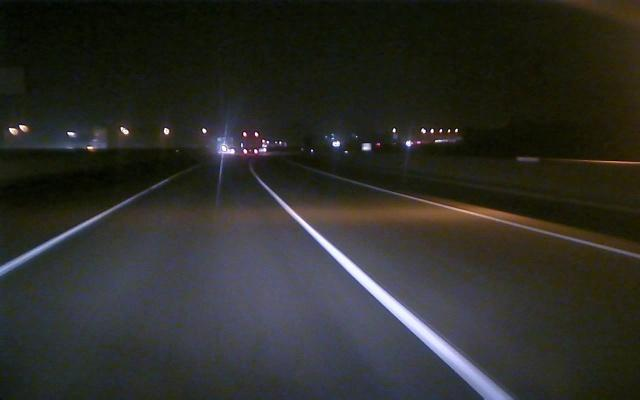lane: (260, 182, 510, 399), (362, 183, 640, 259), (2, 179, 167, 275)
